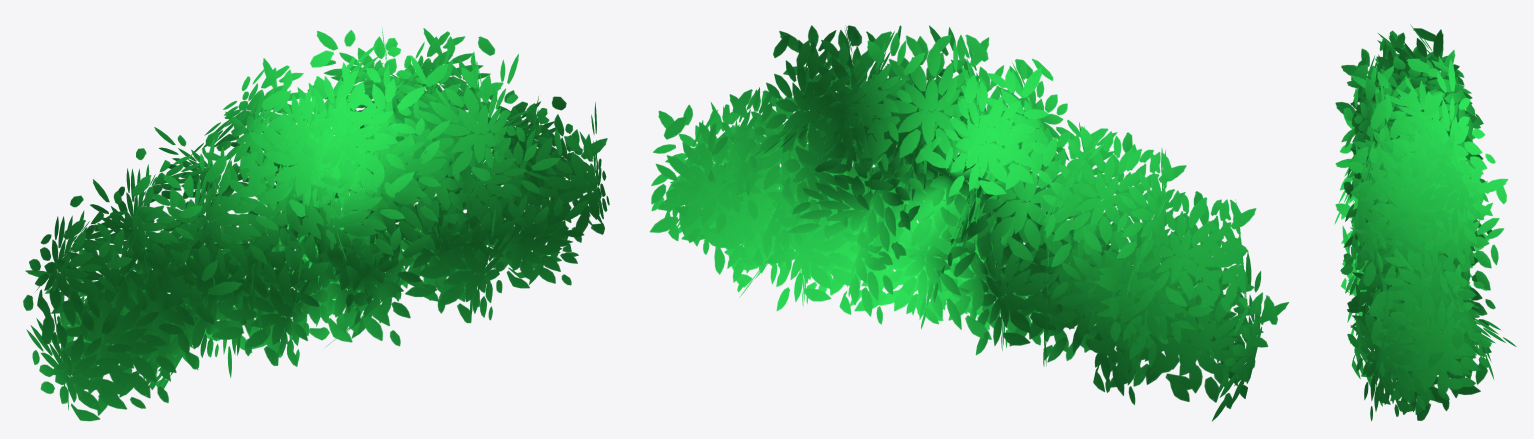
The model's file is big-bush.lod0.glb.
3 renders of one model, left to right at view 1: azimuth 30°, elevation 25°; view 2: azimuth 150°, elevation 25°; view 3: azimuth 270°, elevation 25°, orthographic. The views are drawn at different scales.
Parts seen in each view (by area): view 1: Object_8; view 2: Object_8; view 3: Object_8.
Part boxes in pixels (x1,y1,x2,y2): Object_8: [23, 28, 609, 421]; Object_8: [649, 25, 1288, 421]; Object_8: [1334, 24, 1516, 421].
Size of the model in its own units: 4.52 by 2.2 by 1.29.
1 material, 1 textured.
